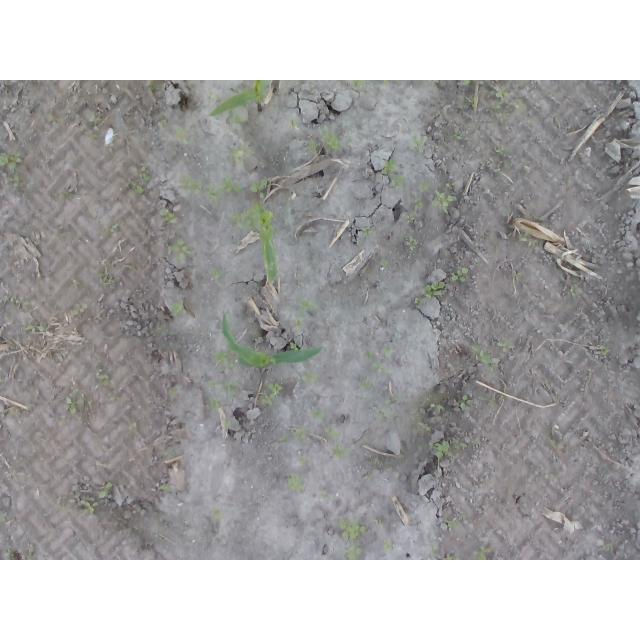Maize: (221, 313, 324, 367), (208, 80, 270, 117), (256, 208, 276, 284)
Weeds: (231, 202, 266, 231), (339, 518, 370, 541), (471, 343, 498, 369), (65, 387, 88, 417), (319, 125, 345, 151), (433, 188, 456, 215), (177, 173, 203, 195), (168, 237, 192, 259), (427, 440, 453, 459), (249, 177, 270, 200), (212, 348, 235, 369), (0, 151, 22, 172), (231, 144, 253, 165), (204, 182, 225, 203), (331, 441, 354, 460), (421, 282, 445, 299), (95, 361, 110, 387), (296, 298, 318, 315), (222, 177, 245, 193), (287, 473, 306, 492), (168, 300, 189, 317), (341, 545, 364, 560), (89, 116, 102, 141), (519, 230, 538, 247), (301, 370, 319, 387), (159, 208, 177, 225), (222, 379, 238, 398), (484, 88, 509, 100), (382, 158, 399, 175), (81, 500, 99, 516), (231, 111, 247, 129), (172, 127, 188, 145), (306, 137, 321, 156), (412, 136, 428, 153), (3, 295, 30, 305), (451, 267, 469, 282), (268, 382, 284, 398), (207, 396, 222, 413), (473, 546, 491, 560), (72, 303, 90, 317), (102, 223, 120, 237), (496, 340, 516, 352), (130, 181, 146, 196), (391, 174, 406, 190), (98, 271, 115, 285), (373, 362, 391, 375), (324, 426, 341, 439), (374, 407, 391, 420), (477, 397, 497, 408), (596, 539, 615, 550), (385, 395, 404, 406), (100, 482, 113, 498), (444, 518, 461, 530), (139, 166, 151, 183), (459, 394, 473, 408), (262, 394, 277, 407), (511, 98, 527, 110), (406, 235, 418, 251), (347, 80, 366, 90), (25, 324, 46, 333), (311, 408, 326, 420), (594, 345, 610, 356), (383, 538, 394, 554), (416, 421, 432, 432), (208, 90, 221, 103), (295, 427, 308, 440), (7, 174, 21, 186), (452, 127, 464, 141), (429, 541, 440, 556), (296, 313, 305, 331), (546, 436, 558, 449), (413, 197, 424, 211), (361, 379, 372, 392), (207, 379, 220, 390), (467, 95, 478, 108), (363, 225, 374, 238), (317, 490, 331, 500), (488, 103, 502, 113), (158, 118, 170, 129), (569, 285, 581, 296), (382, 346, 394, 357), (430, 403, 446, 411), (492, 146, 506, 155), (211, 507, 222, 518), (406, 213, 417, 224), (159, 484, 176, 491), (284, 194, 293, 207), (455, 441, 469, 449), (499, 113, 510, 123), (287, 118, 298, 128), (419, 181, 429, 192), (289, 341, 300, 351), (212, 267, 221, 279), (414, 297, 426, 306), (366, 349, 375, 361), (440, 556, 461, 561), (443, 180, 456, 188), (62, 191, 74, 199), (470, 439, 483, 446), (308, 83, 316, 94), (373, 518, 384, 526), (224, 417, 232, 428), (108, 395, 120, 402), (460, 81, 472, 88), (129, 422, 138, 431), (493, 166, 503, 174), (380, 259, 388, 269), (524, 164, 533, 172), (26, 402, 35, 410), (300, 456, 308, 465), (0, 512, 6, 524), (27, 545, 35, 553), (280, 435, 289, 442), (172, 389, 181, 396), (364, 474, 375, 479), (363, 396, 372, 402), (347, 135, 353, 141), (48, 114, 54, 120), (383, 80, 390, 85), (433, 80, 440, 82)
